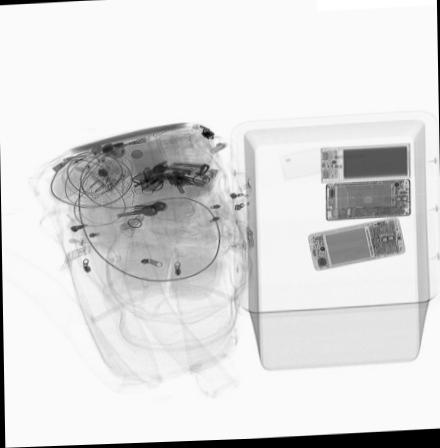Powerbank: (318, 146, 409, 184)
